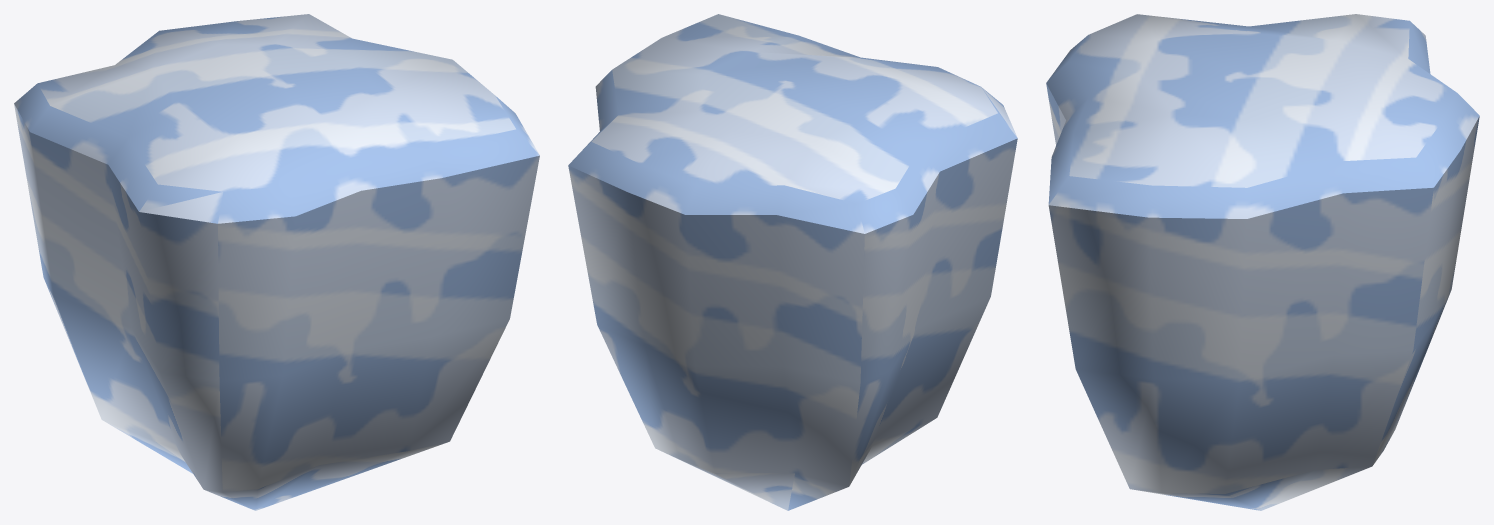
The model's file is Obstacle_Ice.FBX.
3 renders of one model, left to right at view 1: azimuth 30°, elevation 25°; view 2: azimuth 150°, elevation 25°; view 3: azimuth 270°, elevation 25°, orthographic. The views are drawn at different scales.
Parts seen in each view (by area): view 1: Platform_Middle; view 2: Platform_Middle; view 3: Platform_Middle.
Boxes of the visible parts, box(x1,y1,x2,y2) form: Platform_Middle: box(14, 14, 539, 510); Platform_Middle: box(568, 14, 1017, 510); Platform_Middle: box(1046, 14, 1479, 510).
Bounding box in the file's own units: 172 × 184 × 164.
Materials: 1 (1 with a texture image).
